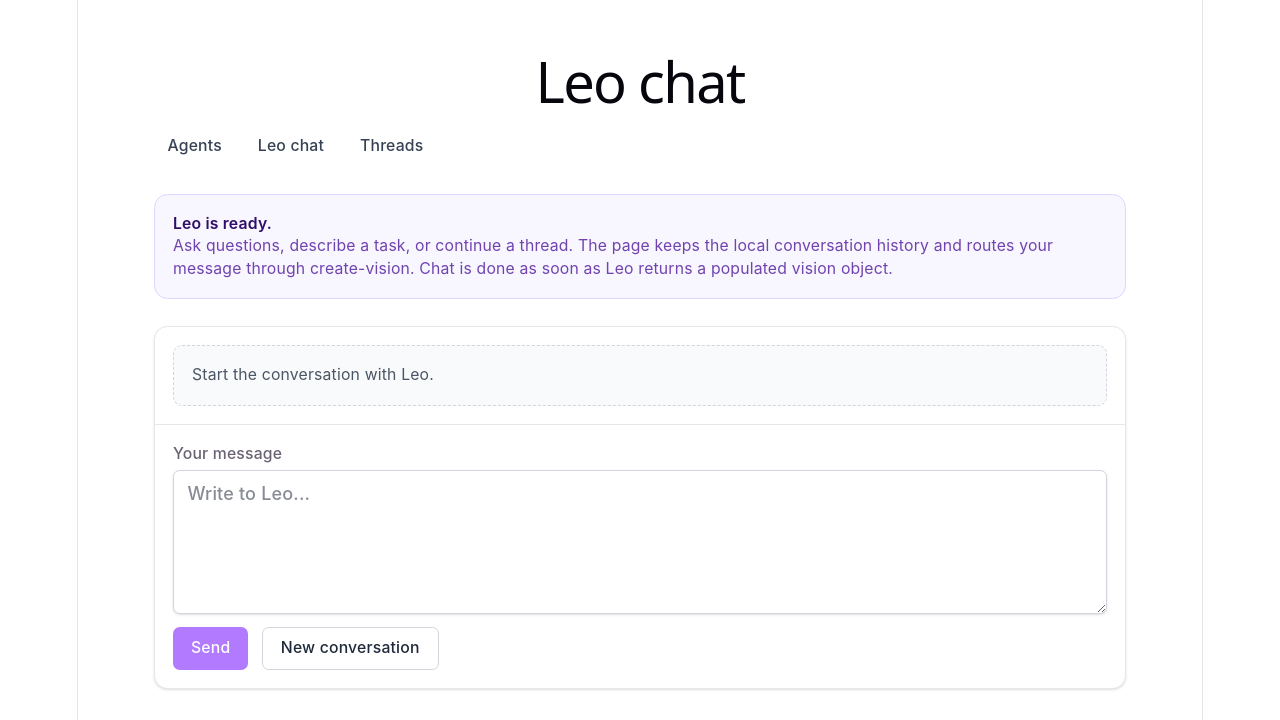
LeoChatPage › sends a message to Leo and renders the reply
The image size is (1280, 720).
Type "Hi Leo" into the text box labelled "Your message" at (640, 542), box [173, 470, 1107, 614]
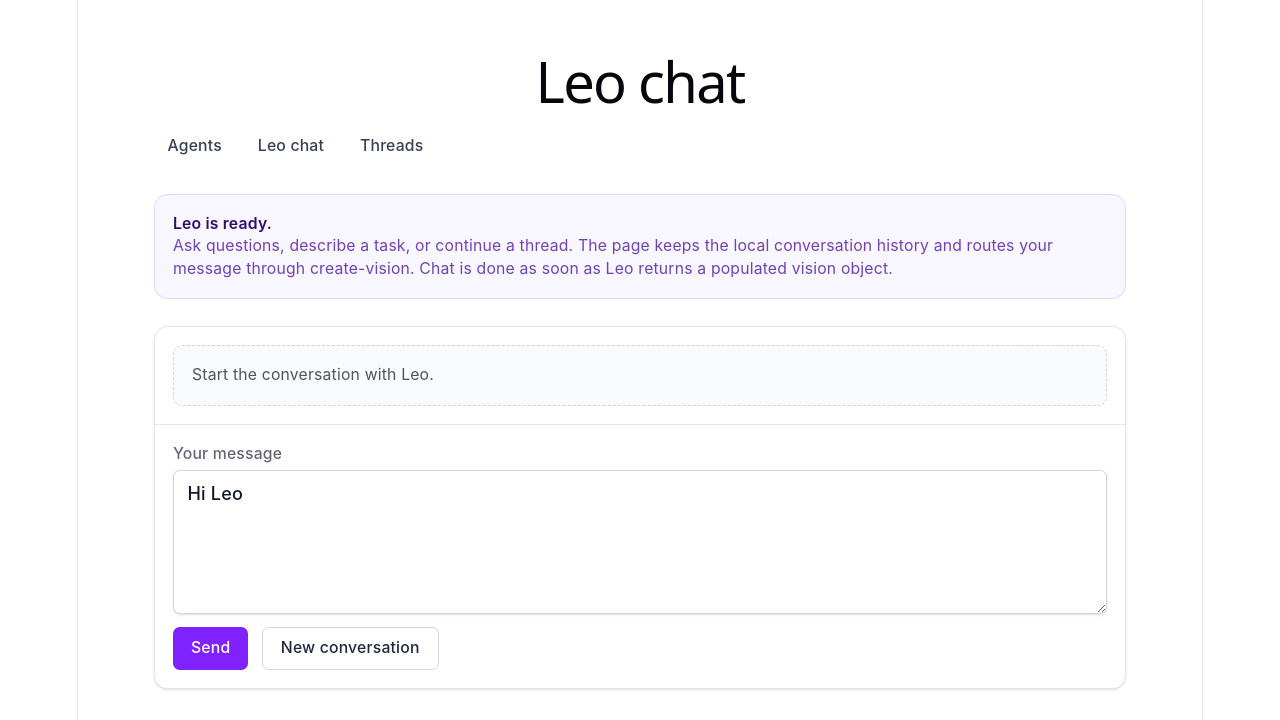
Click the button "Send" at (211, 648), box [173, 627, 248, 670]
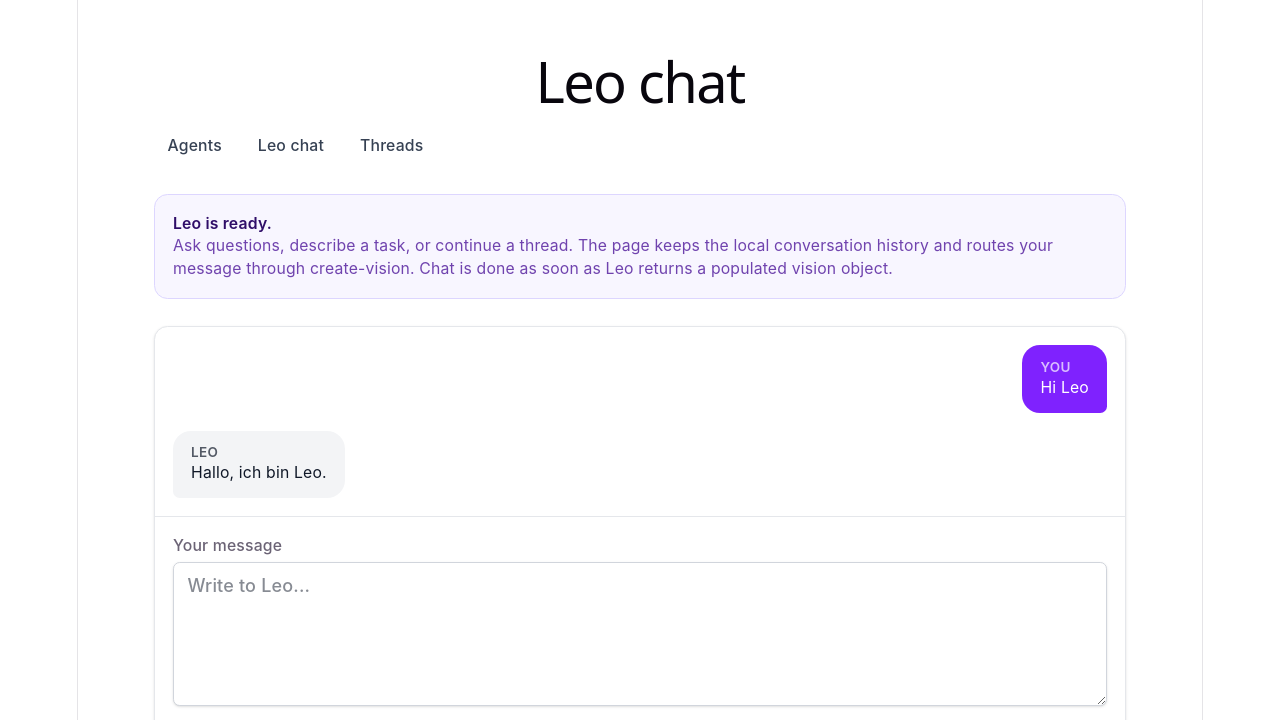
Now the text "Hi Leo" is shown, box [1040, 377, 1089, 399]
Now the text "Hallo, ich bin Leo." is shown, box [191, 462, 327, 485]
